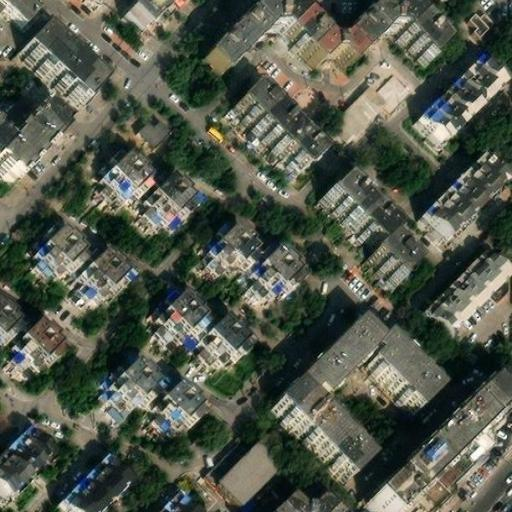building: (370, 365, 512, 506), (203, 0, 446, 67), (85, 353, 204, 442), (138, 281, 256, 366), (90, 139, 202, 224), (196, 211, 301, 301), (273, 374, 369, 471), (30, 214, 132, 301), (425, 232, 512, 327), (424, 40, 512, 131), (426, 138, 512, 227), (297, 310, 383, 396), (224, 82, 309, 167), (22, 22, 101, 100), (365, 326, 441, 402), (63, 439, 140, 512), (309, 176, 384, 249), (212, 427, 286, 492), (326, 79, 387, 140), (372, 232, 423, 283), (149, 480, 209, 512), (131, 110, 171, 150), (123, 0, 169, 27), (272, 494, 327, 512), (470, 6, 493, 31)
